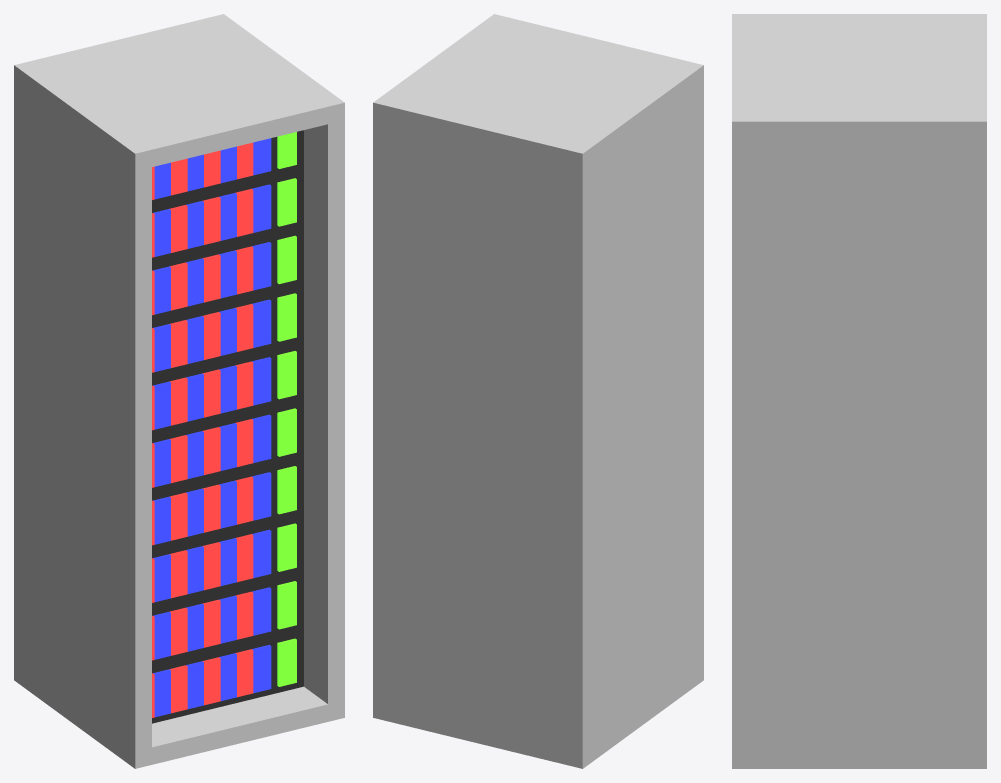
Rendered from server_rack.fbx.
The picture shows the model from 3 angles, left to right: view 1: azimuth 30°, elevation 25°; view 2: azimuth 150°, elevation 25°; view 3: azimuth 270°, elevation 25°; orthographic projection. The views are drawn at different scales.
Parts seen in each view (by area): view 1: Cube, Cube.001; view 2: Cube; view 3: Cube.
Part boxes in pixels (x1,y1,x2,y2): Cube: [14, 14, 344, 768]; Cube.001: [152, 130, 303, 723]; Cube: [373, 14, 703, 768]; Cube: [732, 14, 986, 768].
Bounding box in the file's own units: 63.7 × 179 × 63.7.
